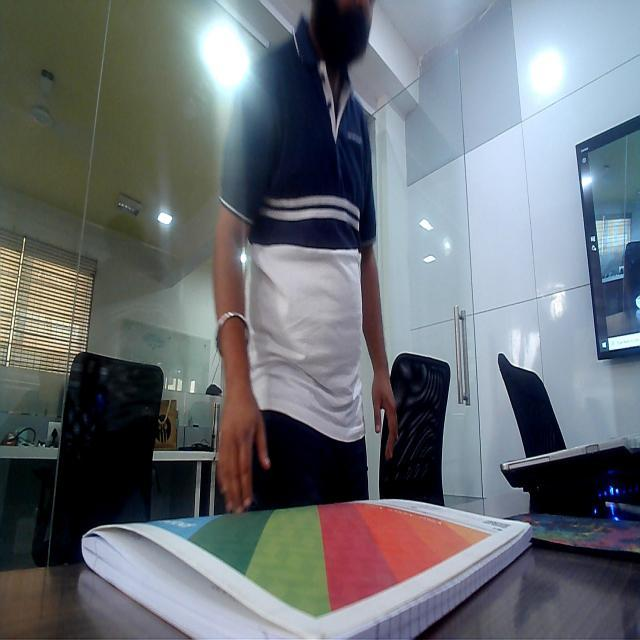without_gloves: (208, 366, 275, 518), (368, 376, 404, 466)
